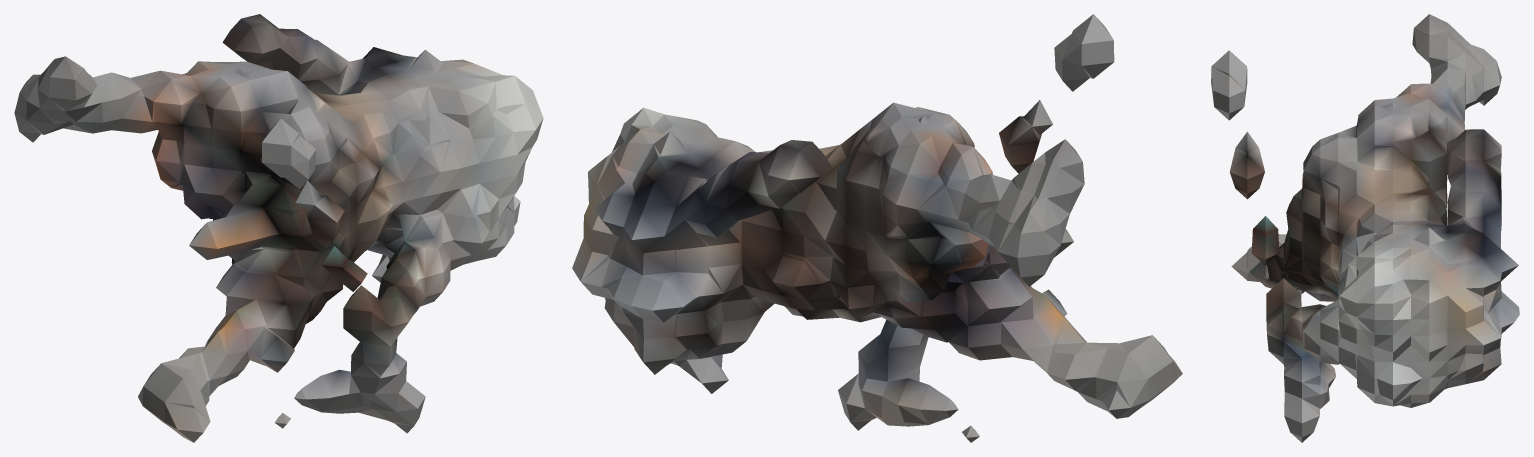
3 renders of one model, left to right at view 1: azimuth 30°, elevation 25°; view 2: azimuth 150°, elevation 25°; view 3: azimuth 270°, elevation 25°, orthographic. The views are drawn at different scales.
Parts seen in each view (by area): view 1: world; view 2: world; view 3: world.
Boxes of the visible parts, box(x1,y1,x2,y2) form: world: box(14, 14, 543, 442); world: box(572, 14, 1182, 442); world: box(1211, 14, 1519, 442).
Bounding box in the file's own units: 0.8878 × 0.7267 × 0.6284.
